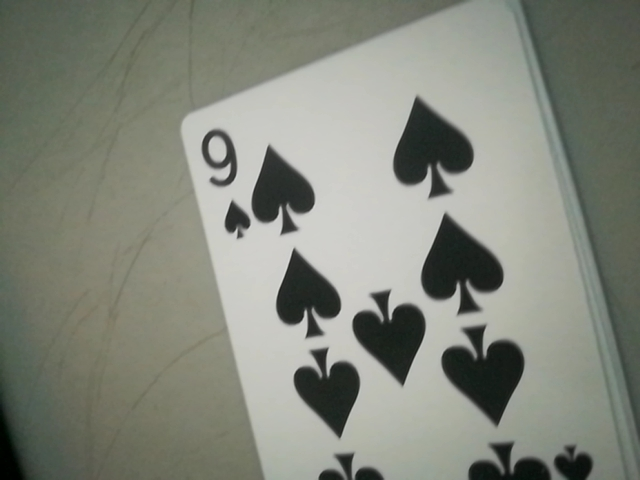ht 9: (191, 119, 257, 249)
